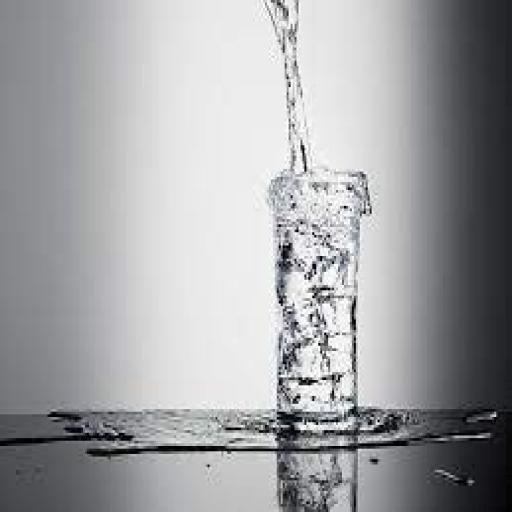bottle: (253, 148, 373, 445)
